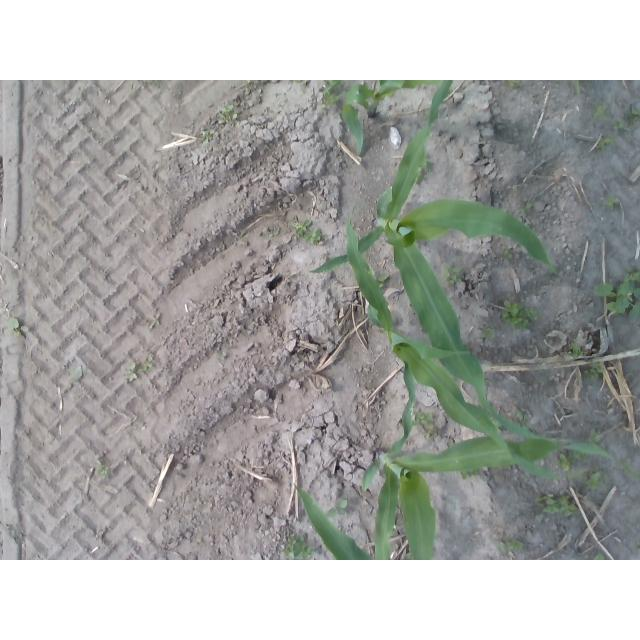Maize: (309, 80, 559, 440), (361, 362, 615, 560), (368, 284, 584, 481), (323, 80, 440, 157), (294, 484, 372, 560)
Weeds: (593, 282, 640, 318), (503, 300, 534, 328), (285, 535, 304, 559), (586, 473, 603, 492), (11, 318, 29, 335), (540, 495, 557, 513), (625, 105, 639, 126), (445, 265, 462, 282), (560, 499, 575, 517), (413, 412, 432, 425), (296, 220, 311, 236), (560, 454, 573, 471), (127, 362, 137, 383), (309, 229, 323, 244), (323, 92, 337, 107), (517, 412, 529, 429), (149, 313, 161, 329), (594, 105, 607, 119), (482, 327, 496, 340), (591, 362, 602, 378), (598, 137, 615, 147), (143, 357, 154, 372), (623, 272, 639, 282), (520, 202, 532, 215), (74, 365, 84, 380), (462, 471, 478, 480), (508, 541, 524, 550), (303, 546, 314, 558), (571, 342, 581, 355), (218, 114, 229, 125), (378, 275, 390, 285), (423, 428, 435, 437), (498, 540, 506, 553), (609, 197, 619, 207), (615, 121, 624, 132), (509, 81, 520, 90), (222, 106, 235, 113), (202, 131, 215, 138), (100, 465, 109, 475), (340, 500, 349, 509), (504, 252, 512, 261), (593, 554, 604, 560), (327, 509, 337, 515), (220, 352, 227, 360), (232, 114, 239, 121)
